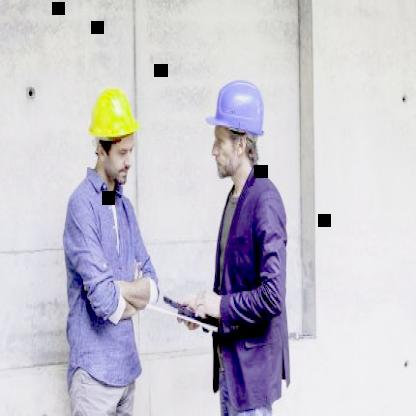helmet: (202, 58, 272, 198), (89, 77, 143, 183)
